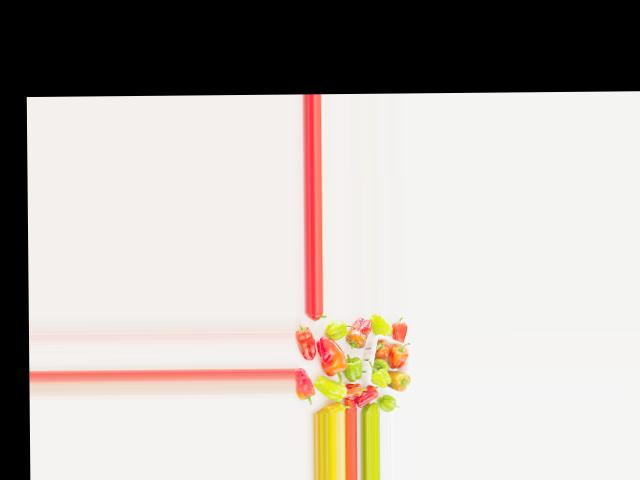bell_pepper: (294, 372, 318, 406)
